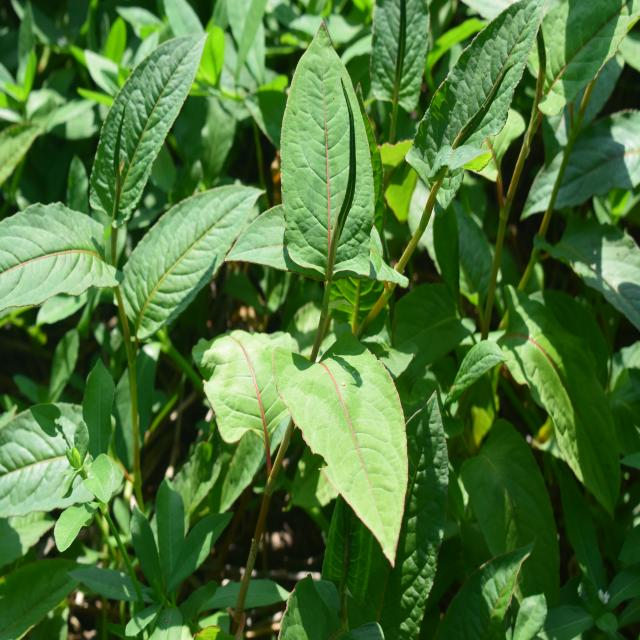Chinese_knotweed: (252, 20, 424, 576), (1, 32, 232, 338)
